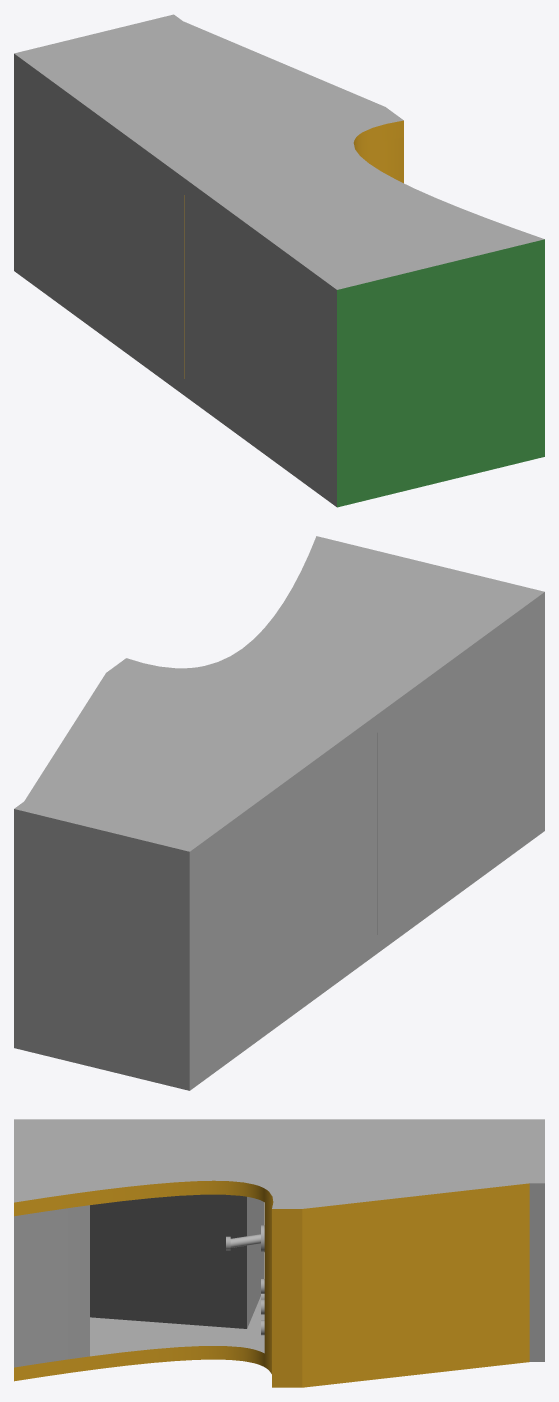
The model's file is GameMachineYellow.fbx.
3 renders of one model, top to bottom at view 1: azimuth 30°, elevation 25°; view 2: azimuth 150°, elevation 25°; view 3: azimuth 270°, elevation 25°, orthographic. The views are drawn at different scales.
Parts seen in each view (by area): view 1: Body1; view 2: Body1; view 3: Body1.
Part boxes in pixels (bbox=[...]): Body1: bbox=[14, 14, 544, 507]; Body1: bbox=[14, 536, 544, 1090]; Body1: bbox=[14, 1119, 544, 1387].
Bounding box in the file's own units: 2.8 × 2.6 × 7.
